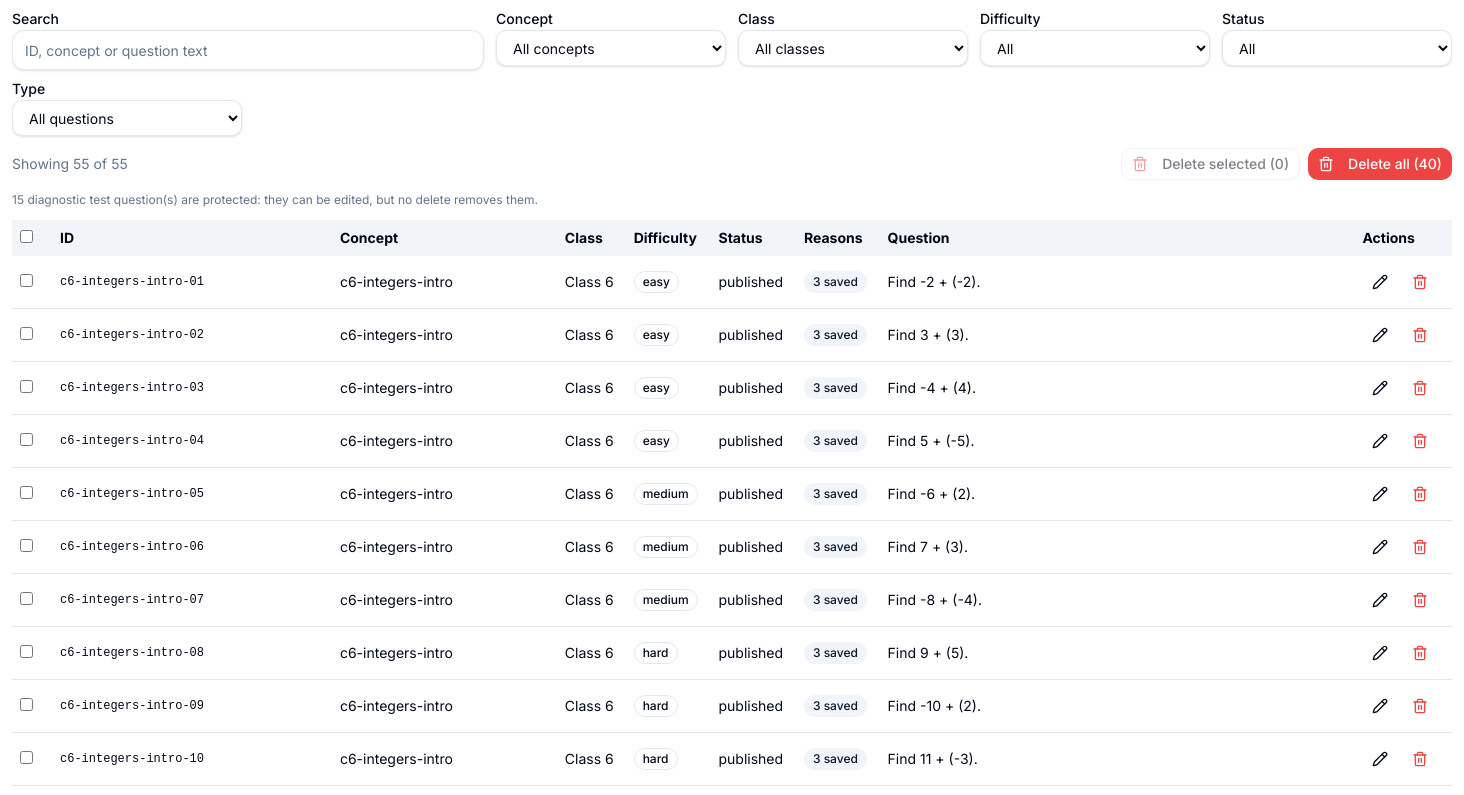
it: question list bulk actions › deletes only the ticked questions after one confirmation
The width and height of the screenshot is (1464, 795).
Click the checkbox named "Select c6-integers-intro-01": (26, 280) [20,274,33,287]
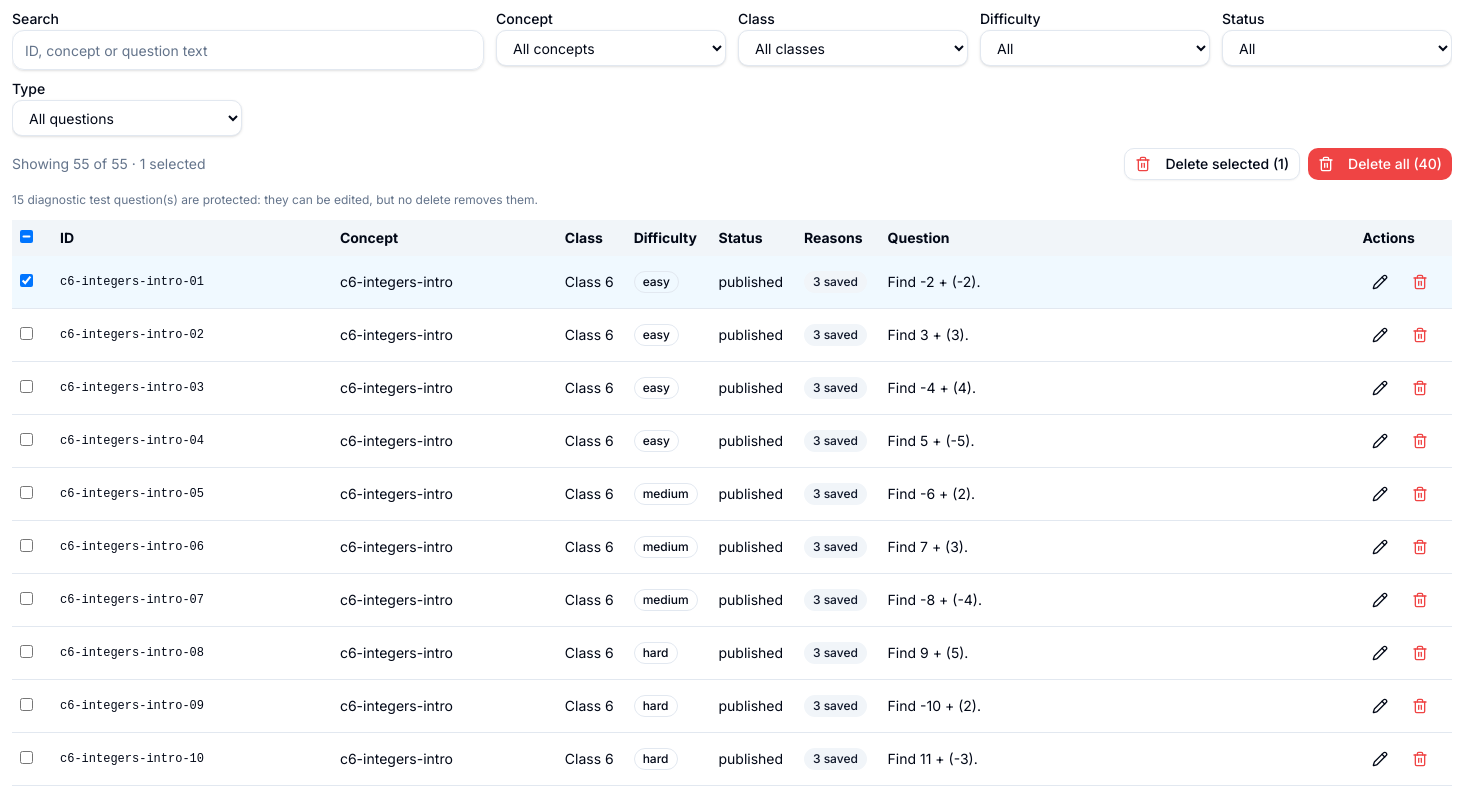
Click the checkbox named "Select c6-integers-intro-04": (26, 440) [20,433,33,446]
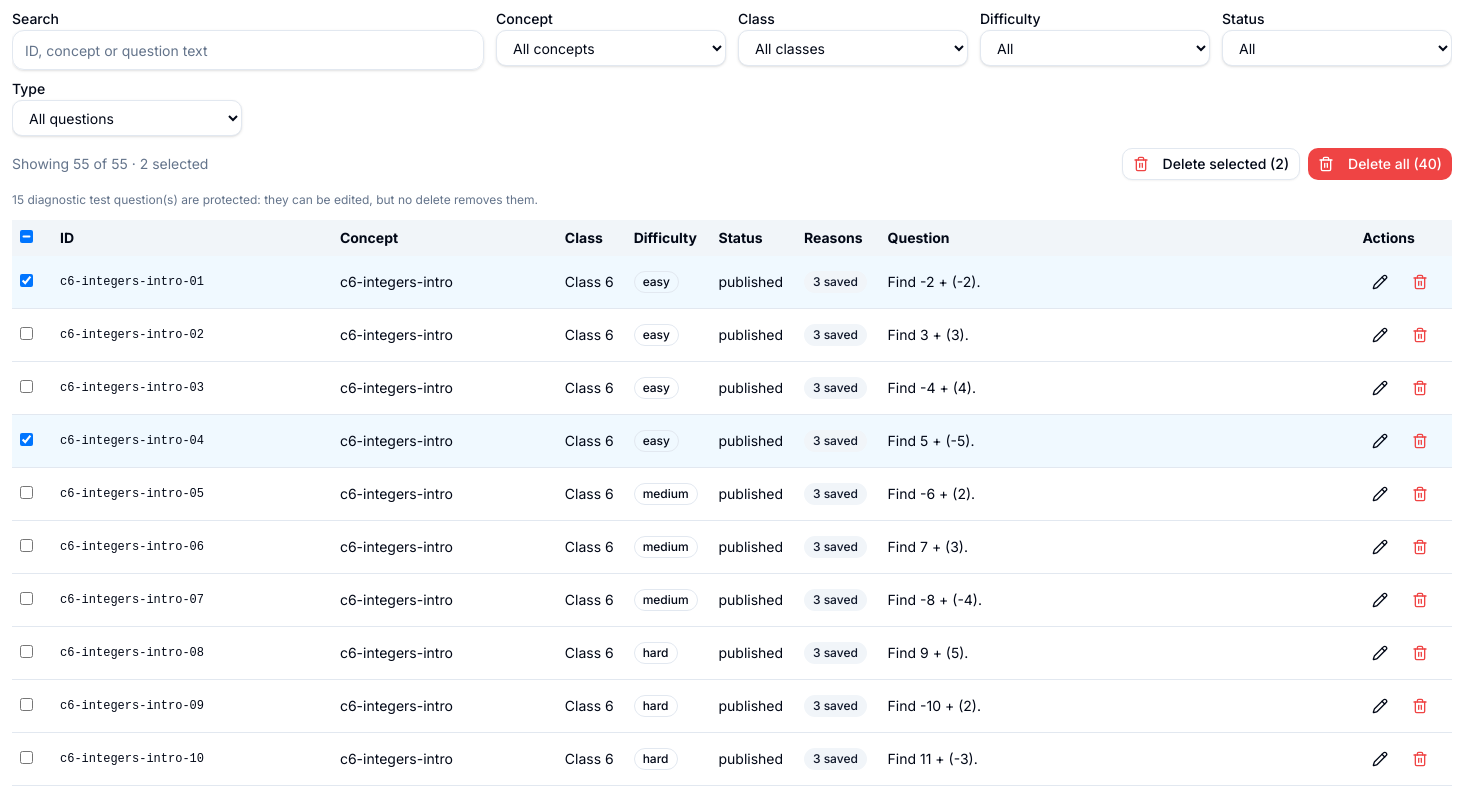
Click the button "Delete selected (2)": (1211, 164) [1122,148,1300,180]
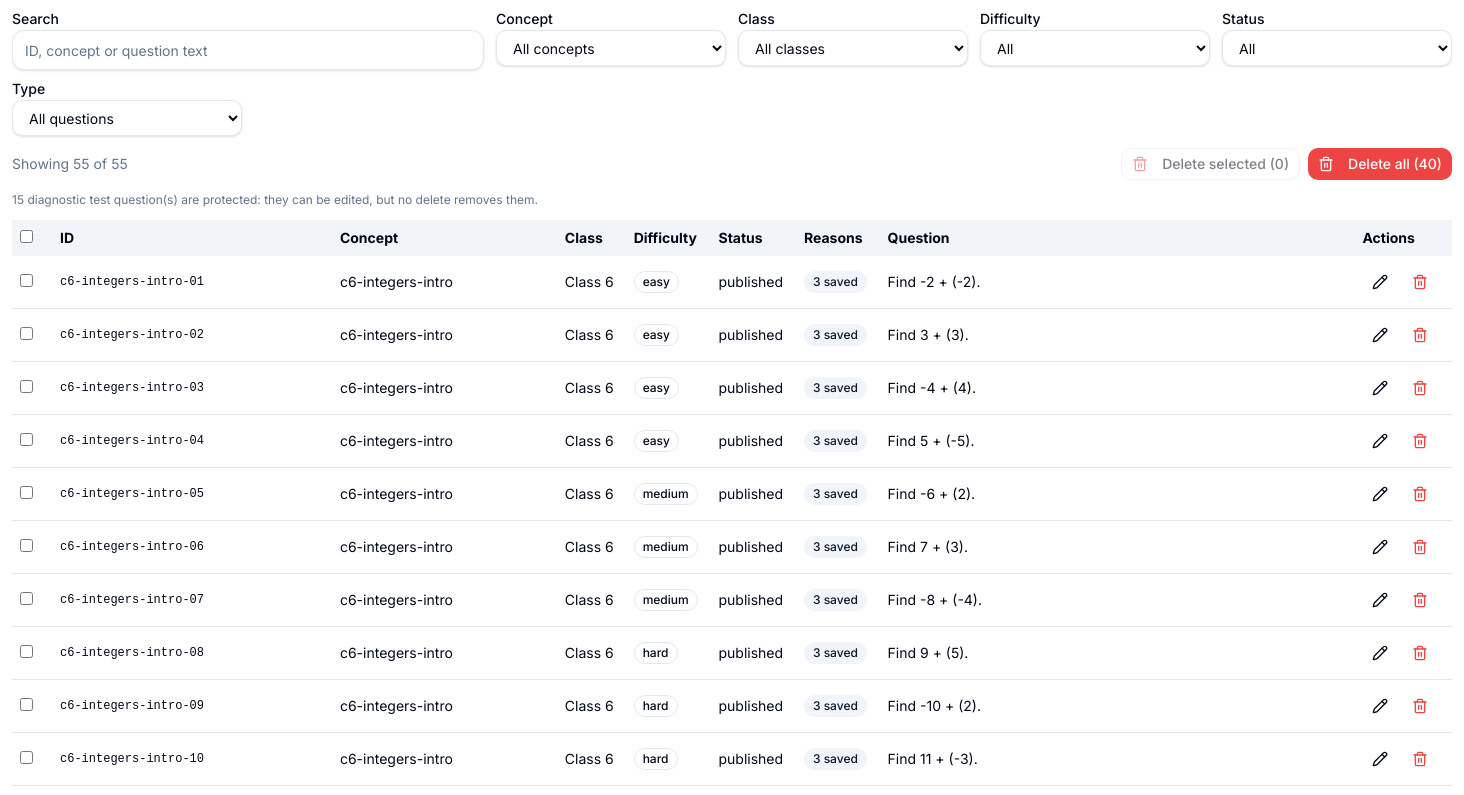
Check: the button "Delete selected (0)" is disabled, box [1121,148,1300,180]
